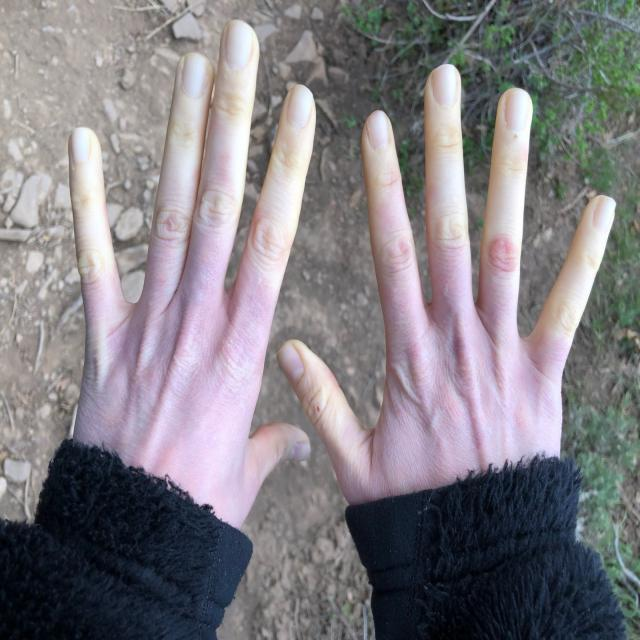raynauds: (142, 8, 272, 252), (238, 63, 324, 308), (411, 36, 475, 260), (349, 112, 422, 273), (266, 332, 364, 440), (547, 201, 626, 334), (62, 122, 122, 287), (484, 81, 534, 262)
